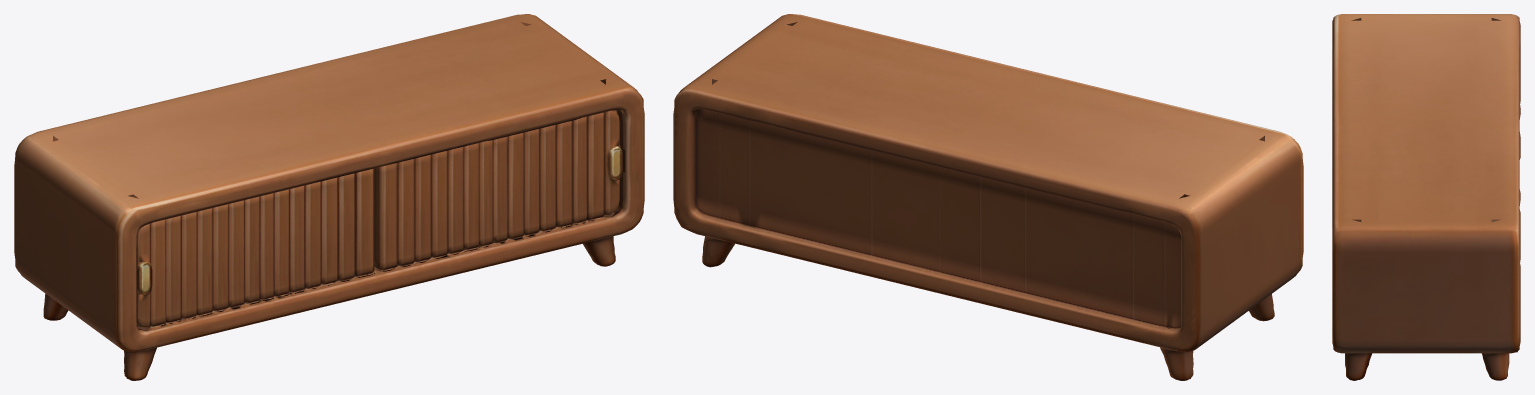
Rendered from walnut-media-console-stylized-v2.glb.
3 views of the same model, side by side, from view 1: azimuth 30°, elevation 25°; view 2: azimuth 150°, elevation 25°; view 3: azimuth 270°, elevation 25° (orthographic). The views are drawn at different scales.
Parts seen in each view (by area): view 1: walnut-media-console-stylized-v2; view 2: walnut-media-console-stylized-v2; view 3: walnut-media-console-stylized-v2.
Part boxes in pixels (x1,y1,x2,y2): walnut-media-console-stylized-v2: (14, 14, 644, 380); walnut-media-console-stylized-v2: (673, 14, 1303, 380); walnut-media-console-stylized-v2: (1332, 14, 1520, 380).
Size of the model in its own units: 1.35 by 0.4412 by 0.4782.
Materials: 1 (1 with a texture image).
